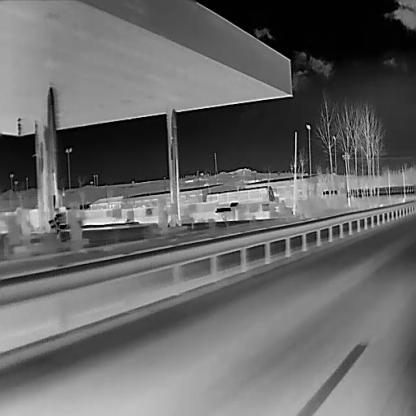bus: (204, 184, 277, 204)
